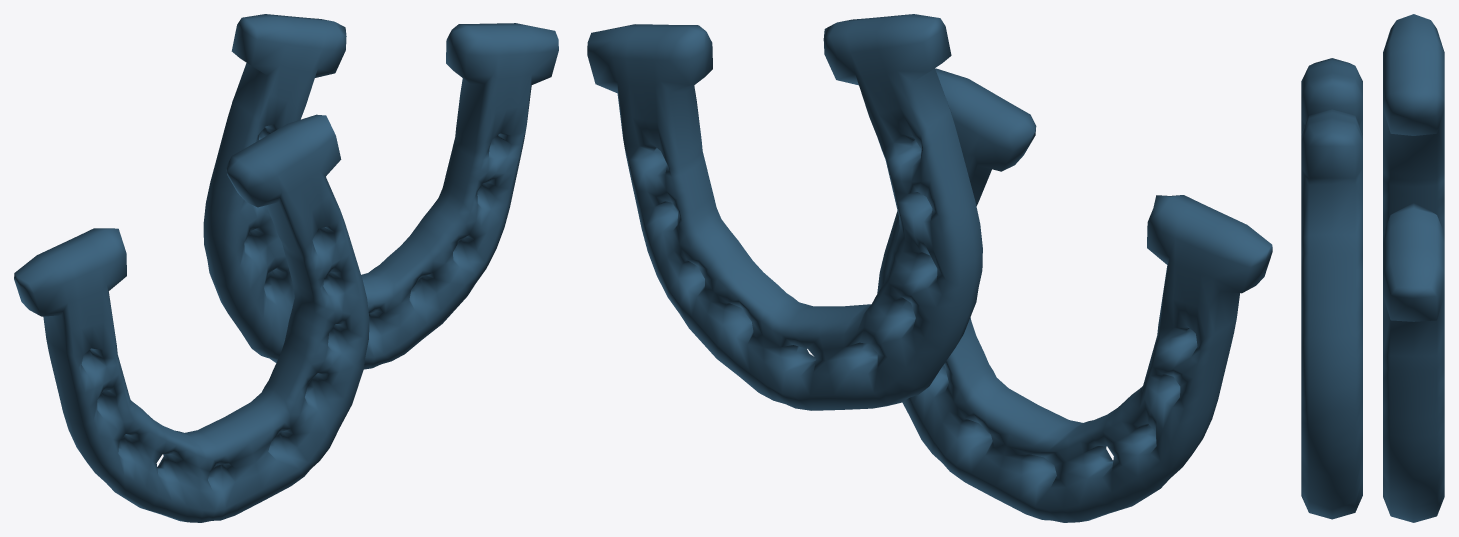
File: neptune_powerup.fbx
3 views of the same model, side by side, from view 1: azimuth 30°, elevation 25°; view 2: azimuth 150°, elevation 25°; view 3: azimuth 270°, elevation 25° (orthographic). The views are drawn at different scales.
Parts seen in each view (by area): view 1: pCube1, pCube2; view 2: pCube2, pCube1; view 3: pCube2, pCube1.
Part boxes in pixels (x1,y1,x2,y2): pCube1: [14, 114, 369, 522]; pCube2: [203, 14, 558, 369]; pCube2: [587, 14, 982, 410]; pCube1: [877, 68, 1272, 522]; pCube2: [1383, 14, 1444, 522]; pCube1: [1301, 58, 1362, 519].
Bounding box in the file's own units: 2.76 × 2.1 × 0.5195.
